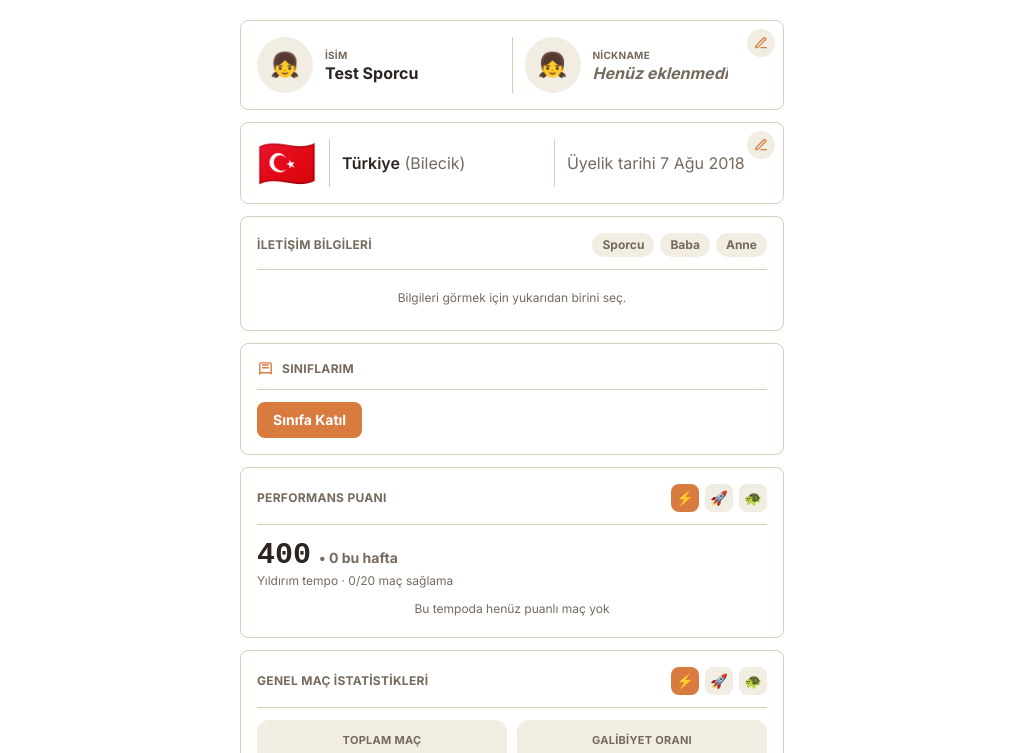
Madde 2026-09-11 (Görsel Turu Aşama B / Madde 3): sporcu profil düzenleme › nickname kaydedilince updateMyProfile çağrılır, yeni değer görünür ve kilit ipucu gelir
This screenshot has width=1024, height=753.
Expected: the text "Test Sporcu" is shown, [325,62,418,82]
Click the button named "Nickname düzenle": (761, 43) [747,29,775,57]
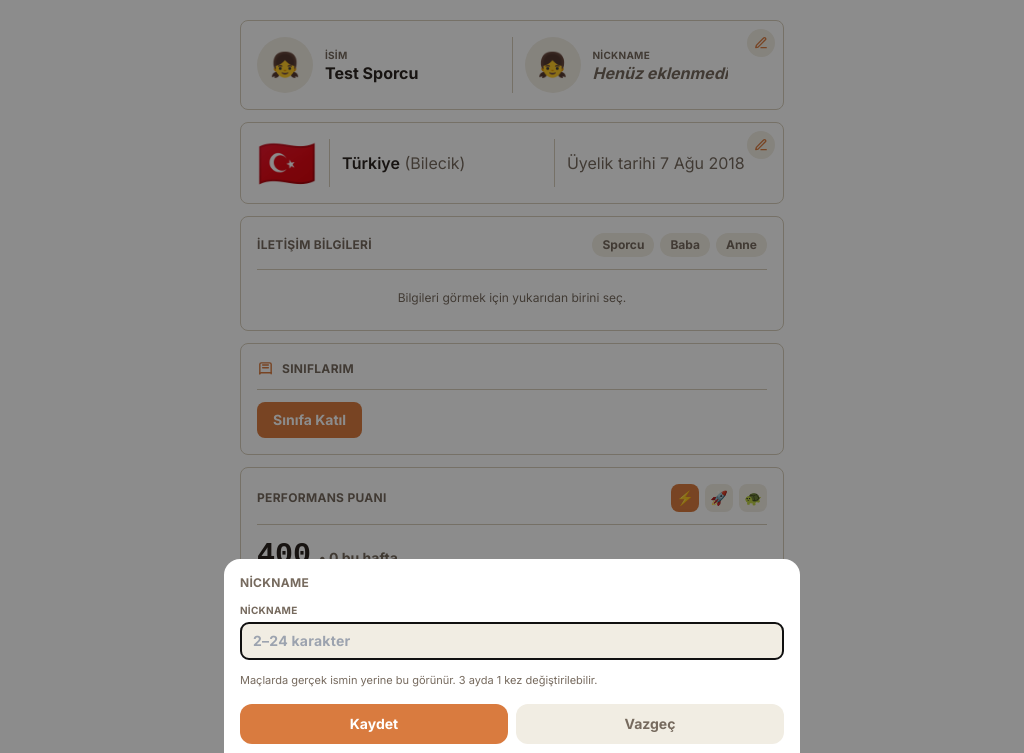
In the field labelled "Nickname": (512, 640) [240,622,784,660], type "Şahin"
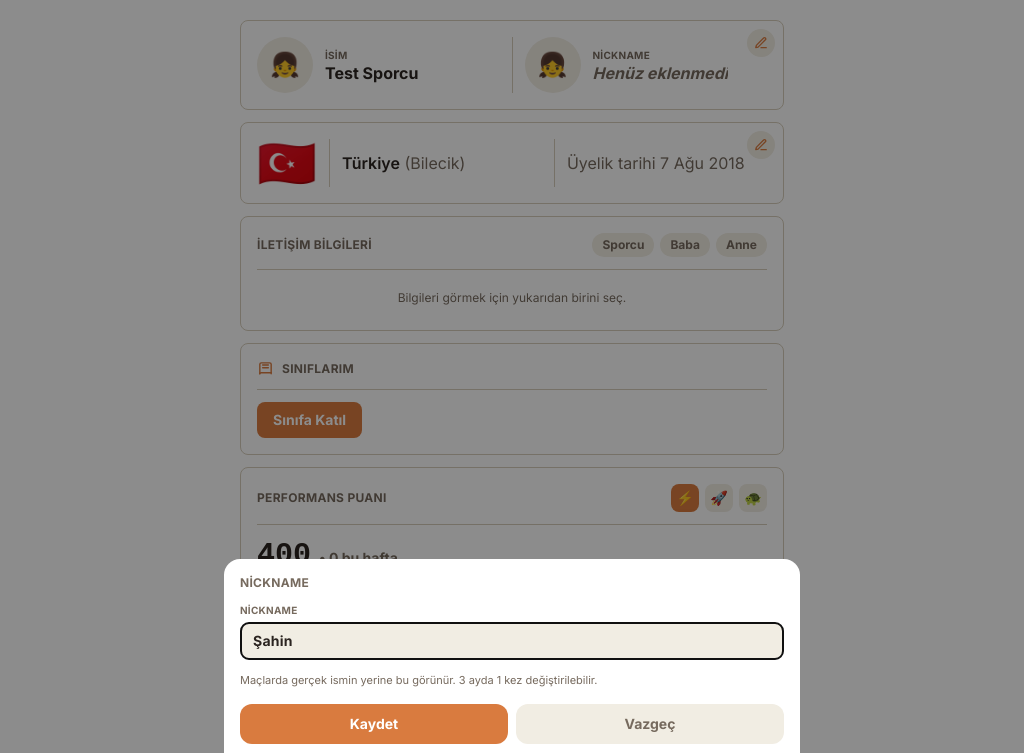
Click the button "Kaydet": (374, 724) [240,704,508,744]
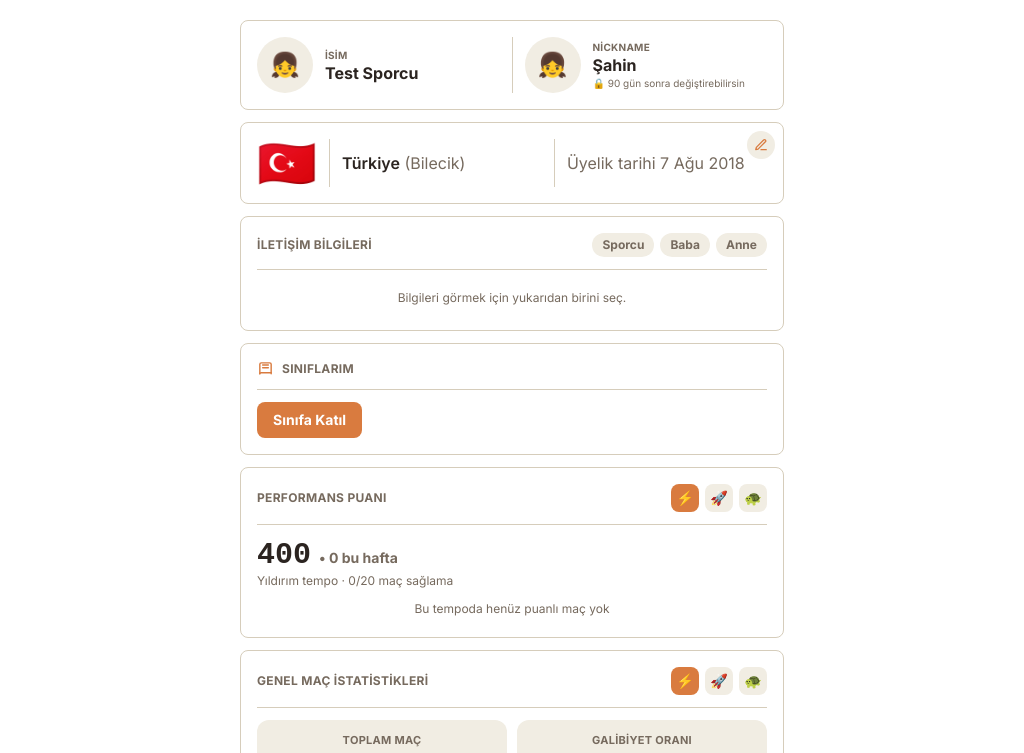
Expected: the text "Test Sporcu" is shown, [325,62,418,82]
Expected: the text "Şahin" is shown, [592,55,636,75]
Expected: the text "🔒 90 gün sonra değiştirebilirsin" is shown, [592,77,745,90]
